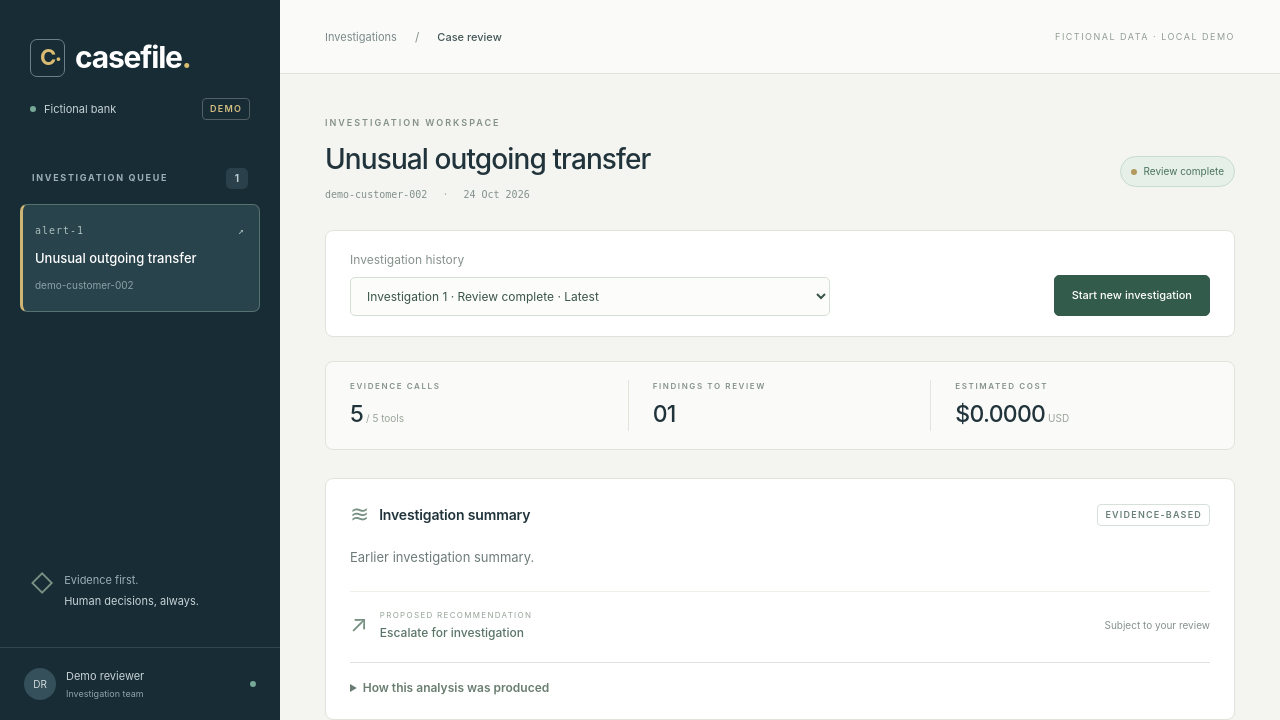
Test: investigation history › starts a separate investigation after CLOSED
Click the button "Start new investigation" at x=1132, y=295, box [1054, 275, 1210, 316]
(page scrolled)
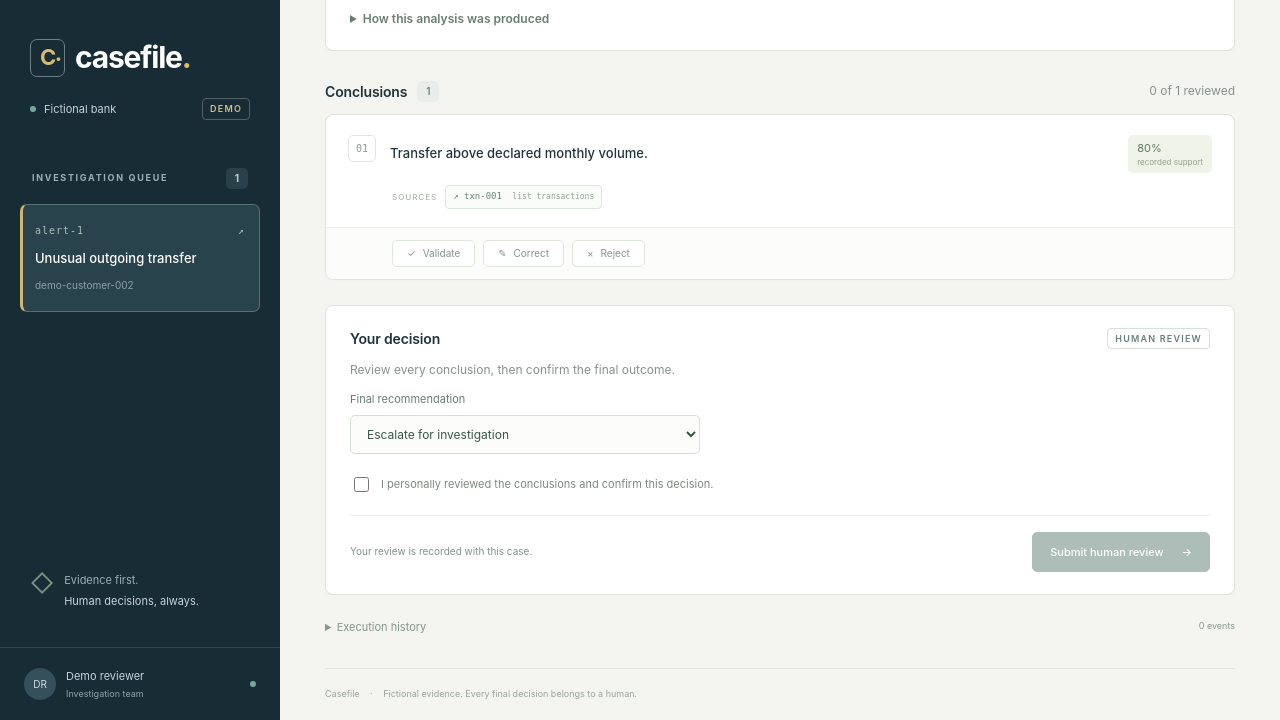
Check: the button "Submit human review →" is disabled, box [1032, 532, 1210, 572]
